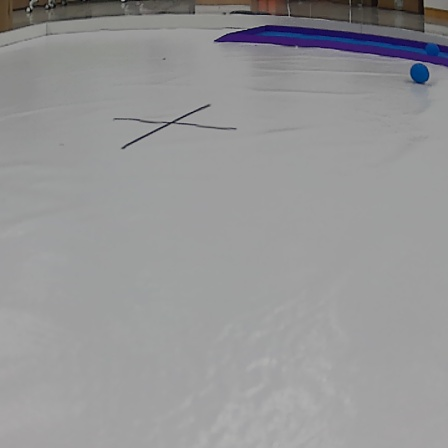blue: (408, 63, 432, 83), (422, 40, 442, 58)
blue_aim: (214, 21, 448, 74)
